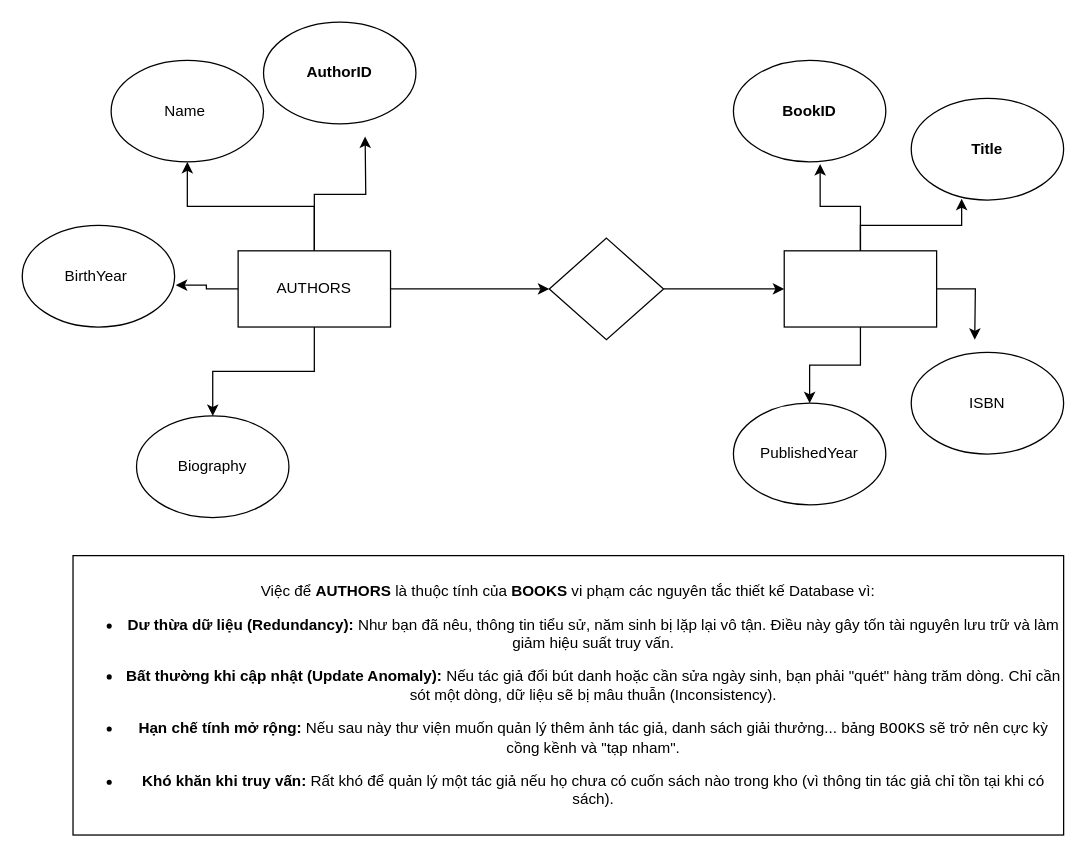
Some shapes in this 1086 by 857 pixel diagram are drawn without their labels. The box of each missing label's shape, as (x1, y1, x2, y2) in pixels:
BOOKS: (783, 250, 937, 327)
Viết: (548, 237, 664, 340)
